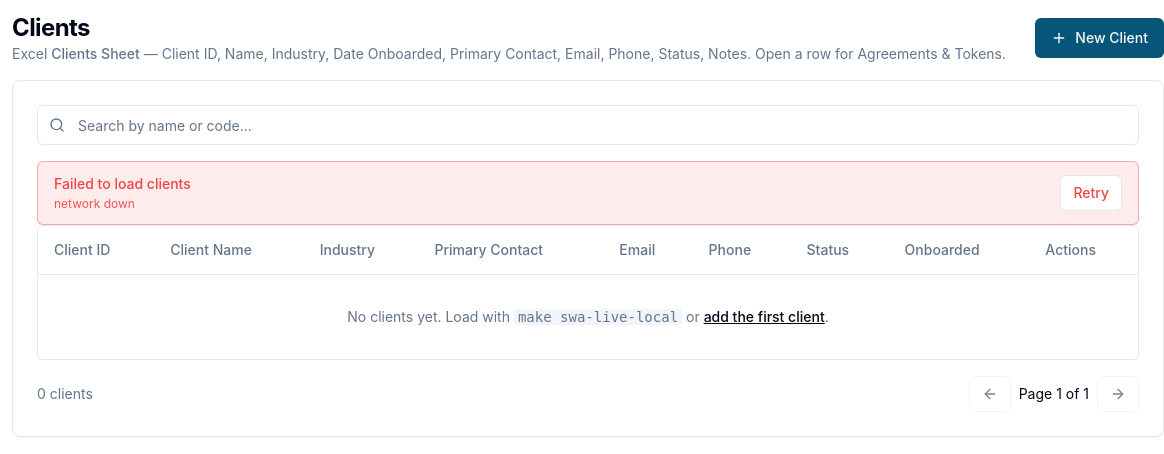
Scenario: ClientList › shows error banner and retries
This screenshot has width=1164, height=454.
Expected: the text "Failed to load clients" is shown, [54,174,191,194]
Click the button "Retry".
click(1091, 193)  # box [1060,175,1122,211]
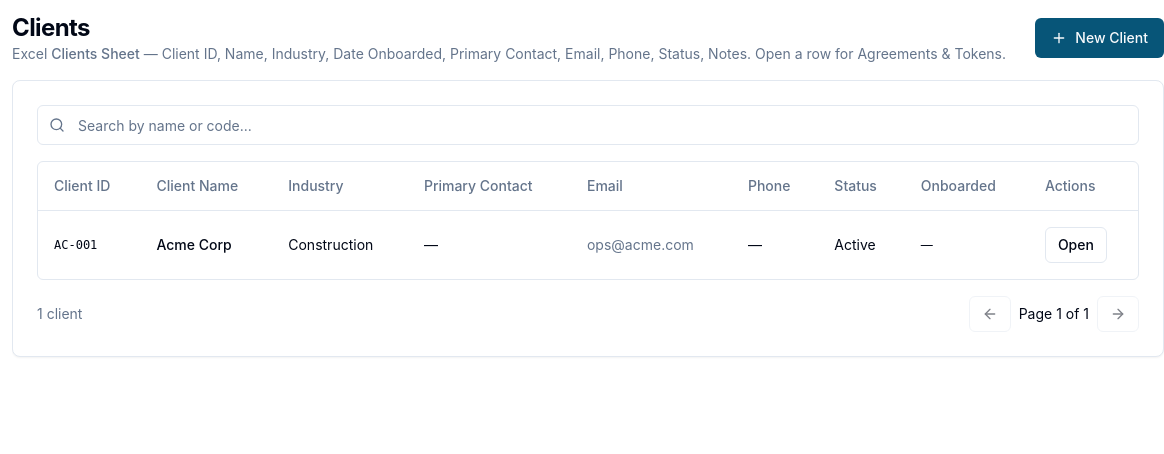
Result: the text "Acme Corp" is shown at [140,210,272,278]
